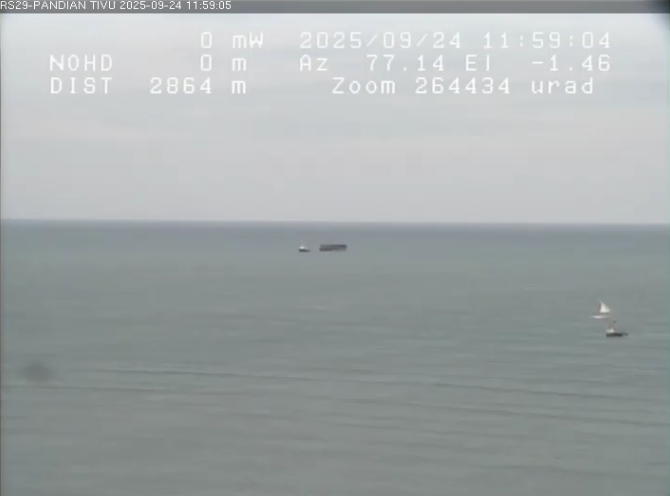BARGE: (317, 239, 360, 260)
FISHING_BOAT: (600, 324, 640, 341)
OFFSHORE_SUPPLY_VESSEL: (291, 240, 312, 258)
SAIL_BOAT: (585, 300, 625, 322)
TOWING: (273, 227, 391, 283)
